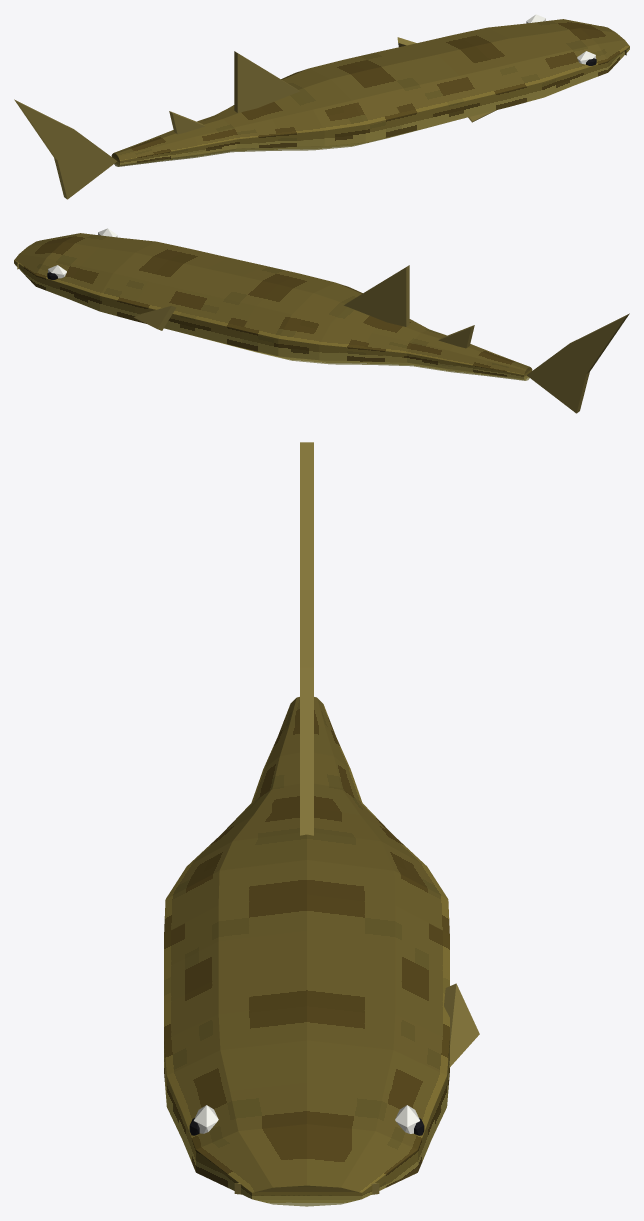
The model's file is weedfish.glb.
3 views of the same model, one above another, from view 1: azimuth 30°, elevation 25°; view 2: azimuth 150°, elevation 25°; view 3: azimuth 270°, elevation 25° (orthographic). The views are drawn at different scales.
Parts seen in each view (by area): view 1: fish_weedfish; view 2: fish_weedfish; view 3: fish_weedfish.
Part boxes in pixels (box(x1,y1,x2,y2)): fish_weedfish: box(14, 14, 629, 199); fish_weedfish: box(14, 228, 629, 413); fish_weedfish: box(164, 442, 479, 1206).
Size of the model in its own units: 1.2 by 0.2146 by 0.2733.
4 materials, 1 textured.
